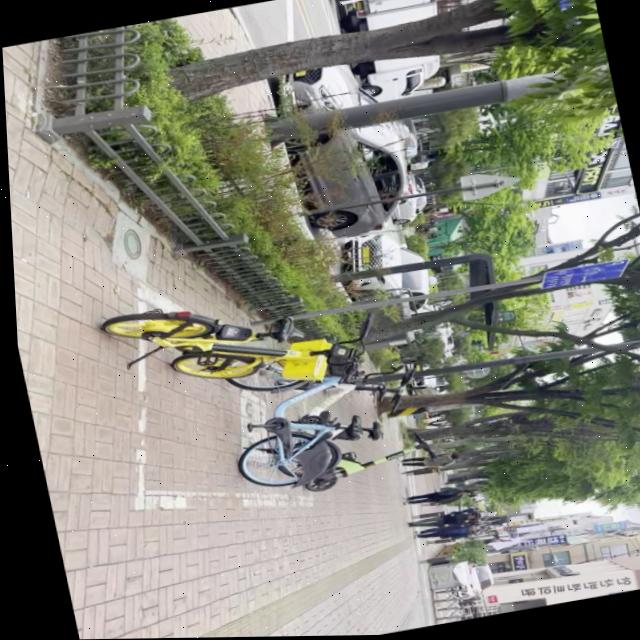ebike_ok: (101, 276, 318, 405), (202, 394, 339, 496)
tactile_paving: (93, 617, 303, 639)
